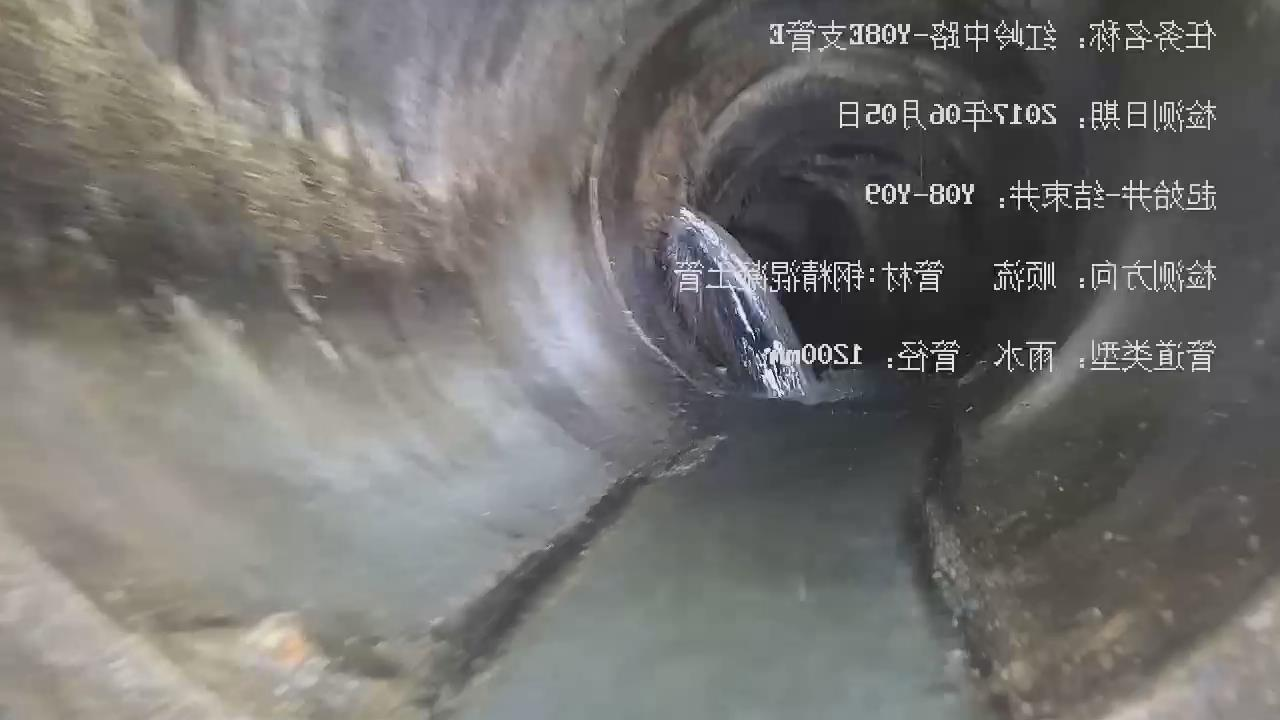SL: (636, 178, 838, 412)
